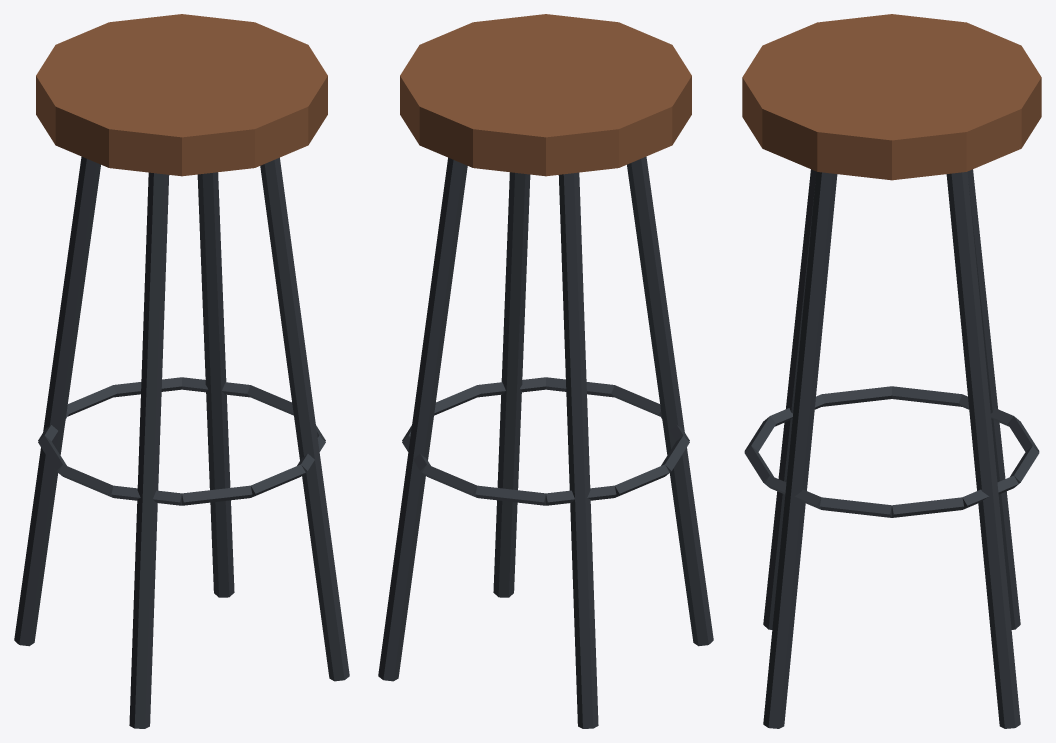
The model's file is bar_stool.glb.
3 renders of one model, left to right at view 1: azimuth 30°, elevation 25°; view 2: azimuth 150°, elevation 25°; view 3: azimuth 270°, elevation 25°, orthographic. The views are drawn at different scales.
Visible parts, largest first — view 1: BarStool; view 2: BarStool; view 3: BarStool.
Boxes of the visible parts, left/top/right/bottom form: BarStool: left=14, top=14, right=349, bottom=728; BarStool: left=378, top=14, right=713, bottom=728; BarStool: left=742, top=14, right=1041, bottom=728.
Bounding box in the file's own units: 0.34 × 0.7515 × 0.34.
